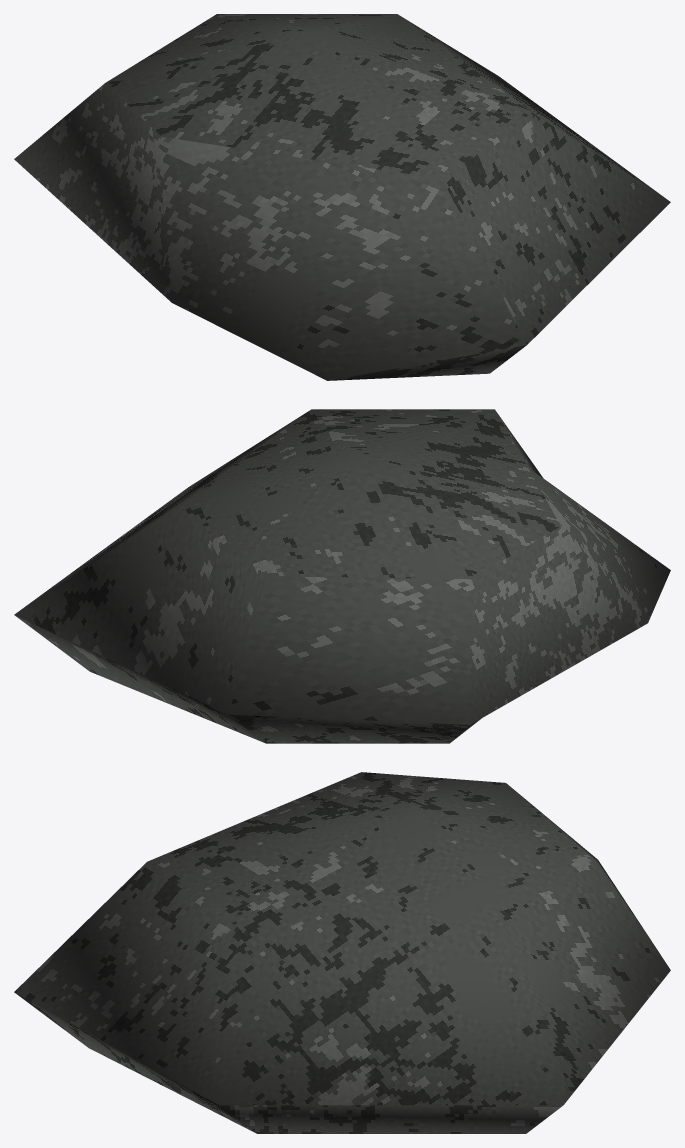
The model's file is rock2.glb.
3 views of the same model, one above another, from view 1: azimuth 30°, elevation 25°; view 2: azimuth 150°, elevation 25°; view 3: azimuth 270°, elevation 25° (orthographic).
Parts seen in each view (by area): view 1: rock2; view 2: rock2; view 3: rock2.
Part boxes in pixels (<box>): rock2: <box>14,14,670,380</box>; rock2: <box>14,409,670,743</box>; rock2: <box>14,772,670,1133</box>.
Size of the model in its own units: 2.15 by 1.01 by 2.58.
Materials: 1 (1 with a texture image).
